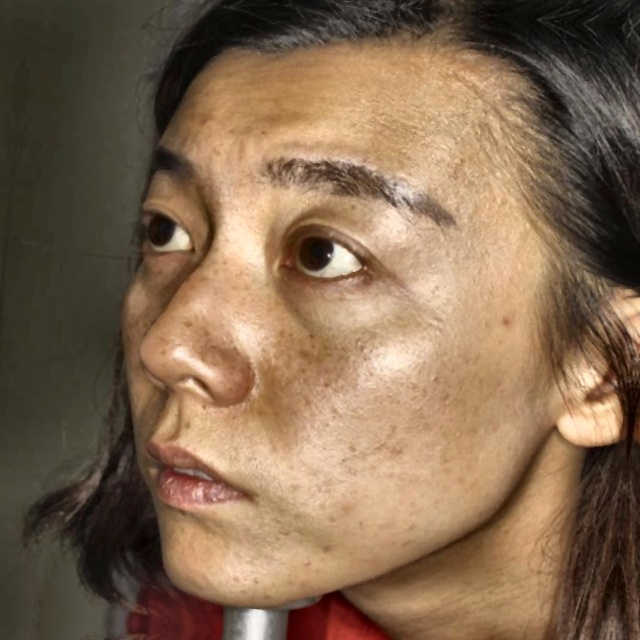comedone: (197, 118, 216, 132)
